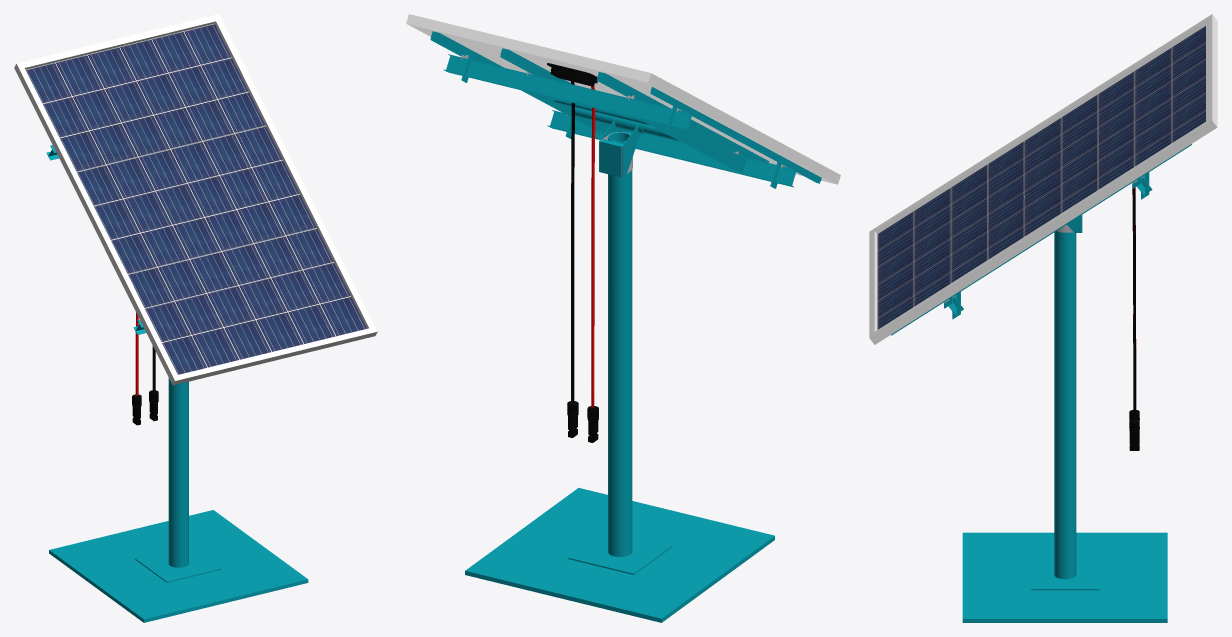
The model's file is Solar Panel 250 w.fbx.
3 renders of one model, left to right at view 1: azimuth 30°, elevation 25°; view 2: azimuth 150°, elevation 25°; view 3: azimuth 270°, elevation 25°, orthographic. The views are drawn at different scales.
Parts seen in each view (by area): view 1: pCube15, Solar_Panel_250w; view 2: Solar_Panel_250w, Structure_1, pCube15, Rail_1, polySurface2393, polySurface2388, JB_2; view 3: pCube15, Solar_Panel_250w, polySurface2393, Structure_1, Rail_1.
Part boxes in pixels (x1,y1,x2,y2): pCube15: [14, 14, 377, 385]; Solar_Panel_250w: [49, 378, 308, 622]; Solar_Panel_250w: [465, 132, 774, 622]; Structure_1: [443, 53, 798, 188]; pCube15: [406, 14, 840, 184]; Rail_1: [430, 31, 821, 183]; polySurface2393: [570, 81, 574, 401]; polySurface2388: [591, 86, 595, 407]; JB_2: [547, 63, 597, 86]; pCube15: [869, 14, 1217, 344]; Solar_Panel_250w: [962, 224, 1167, 622]; polySurface2393: [1132, 184, 1136, 419]; Structure_1: [944, 172, 1152, 319]; Rail_1: [891, 144, 1191, 335].
Bounding box in the file's own units: 2308 × 5189 × 3172.
